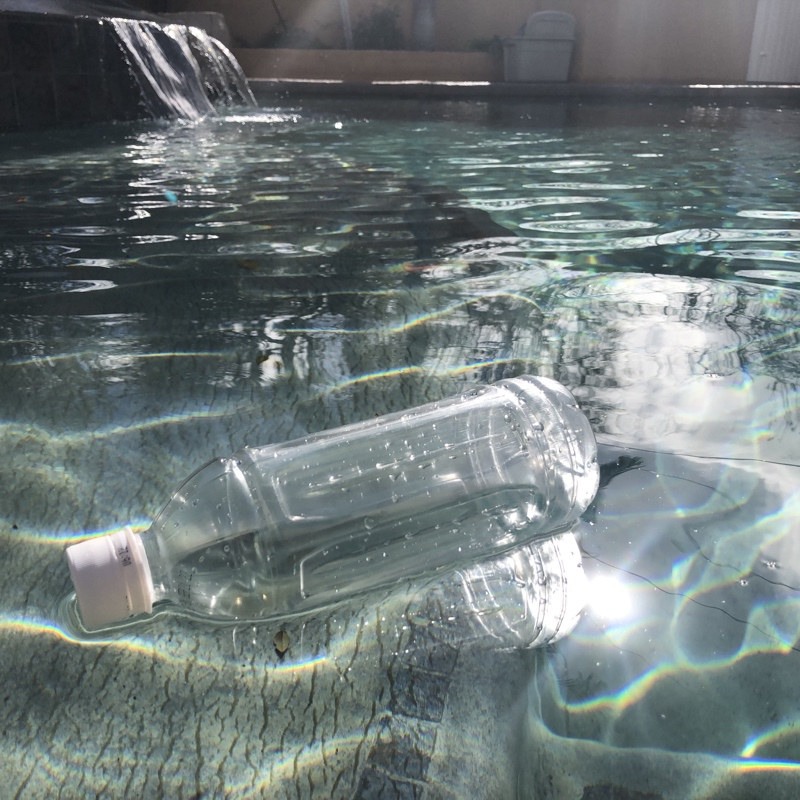Plastic Bottle: (59, 369, 602, 641)
